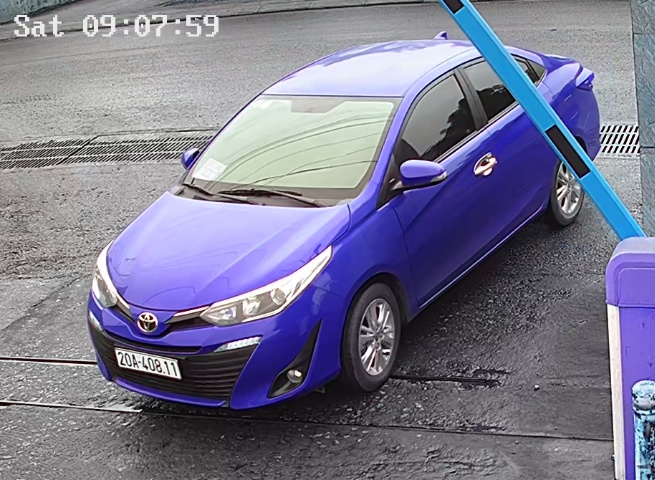vehicle plate: (107, 344, 182, 385)
